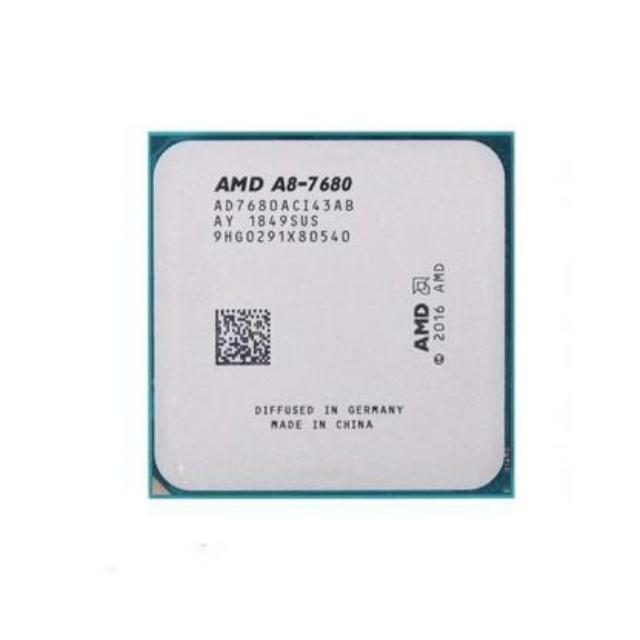CPU: (142, 128, 522, 498)
